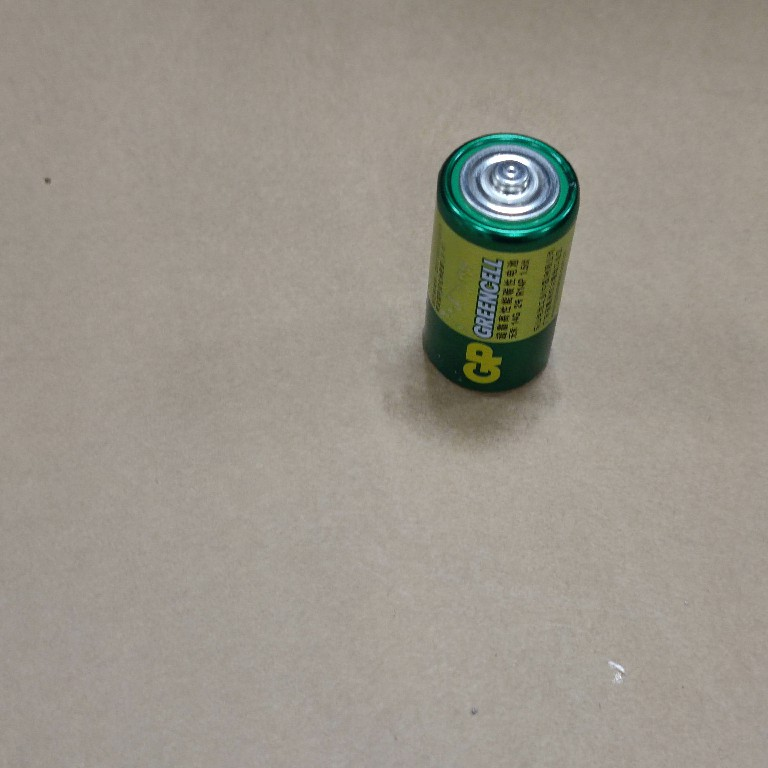charge: (420, 129, 585, 396)
